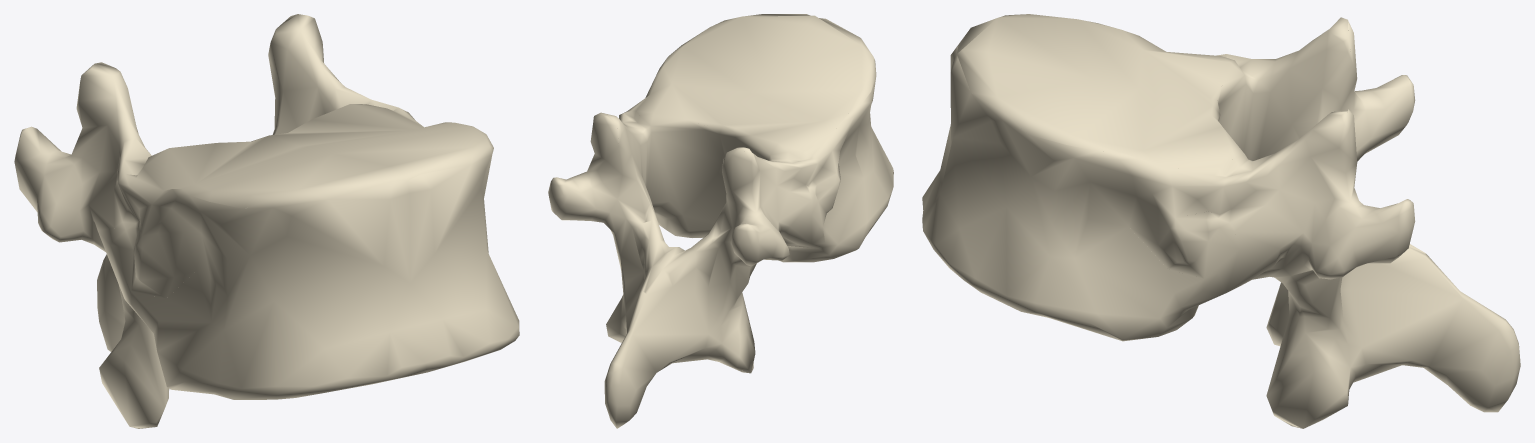
The model's file is esqueleto-vertebra-t12.glb.
The picture shows the model from 3 angles, left to right: view 1: azimuth 30°, elevation 25°; view 2: azimuth 150°, elevation 25°; view 3: azimuth 270°, elevation 25°; orthographic projection. The views are drawn at different scales.
Visible parts, largest first — view 1: Vertebra T12; view 2: Vertebra T12; view 3: Vertebra T12.
Part boxes in pixels (bbox=[...]): Vertebra T12: bbox=[14, 14, 519, 428]; Vertebra T12: bbox=[548, 14, 893, 428]; Vertebra T12: bbox=[922, 14, 1520, 428].
Size of the model in its own units: 0.0467 by 0.054 by 0.0807.
